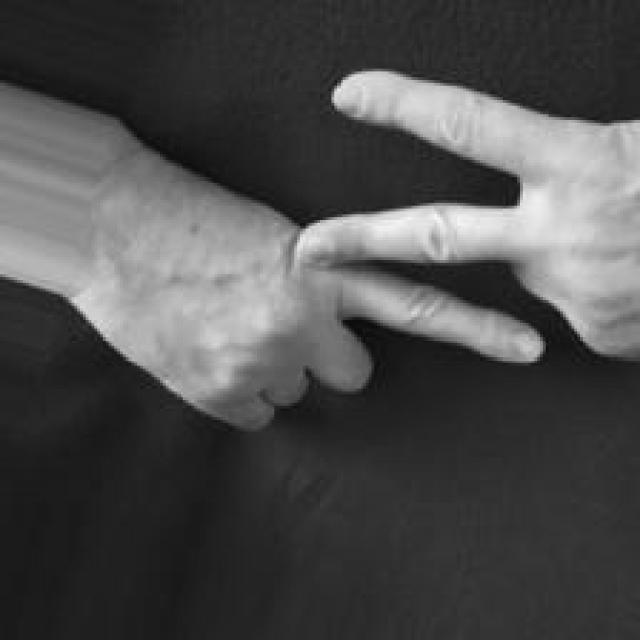Z: (78, 64, 640, 431)
